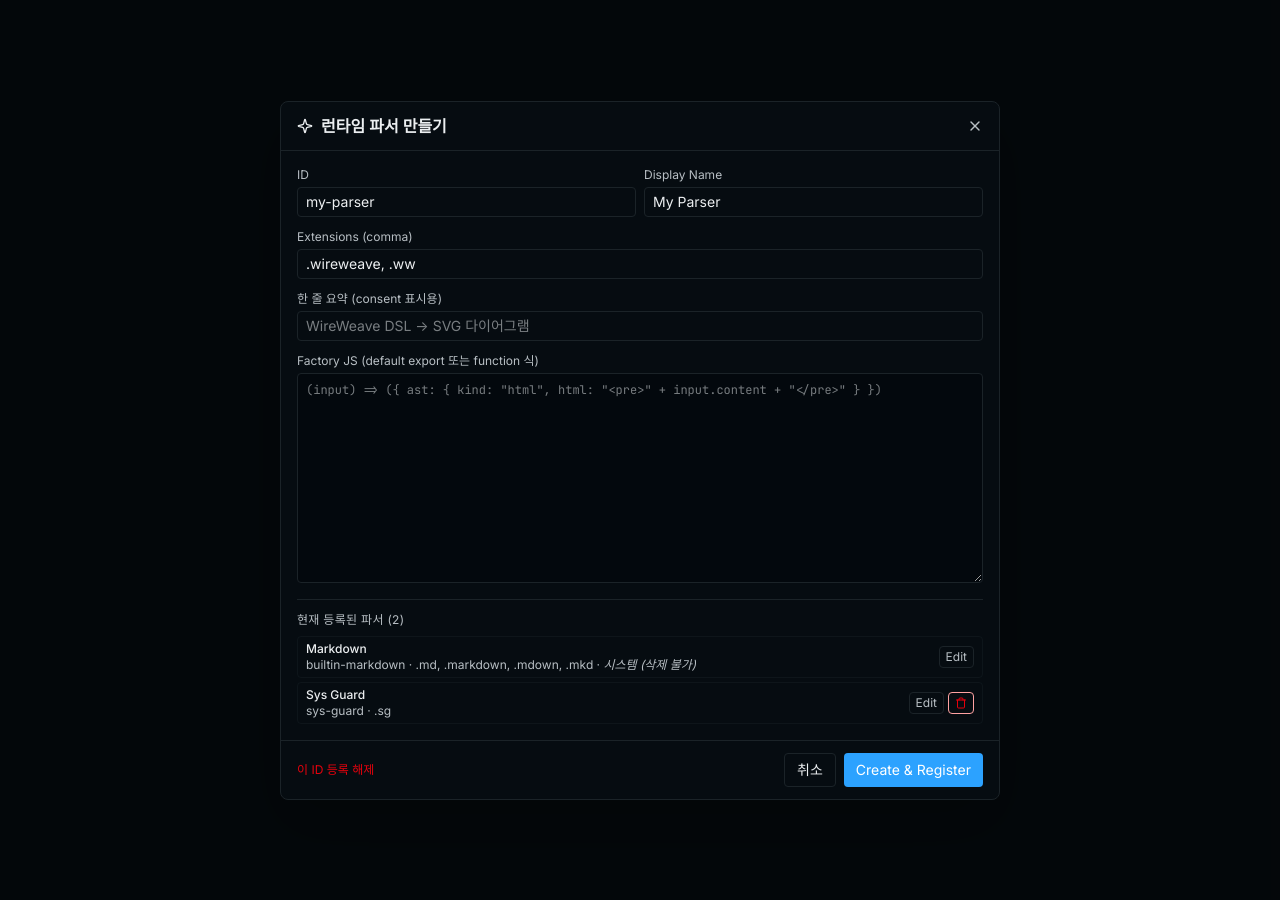
Test: CreateParserDialog › handleRemoveById refuses to remove a system parser (error shown)
What coordinates should you click on to do the following:
click the button with test id "parser-registry-remove-sys-guard"
I would click on:
 (961, 702)
Its box is [948,692,974,714].
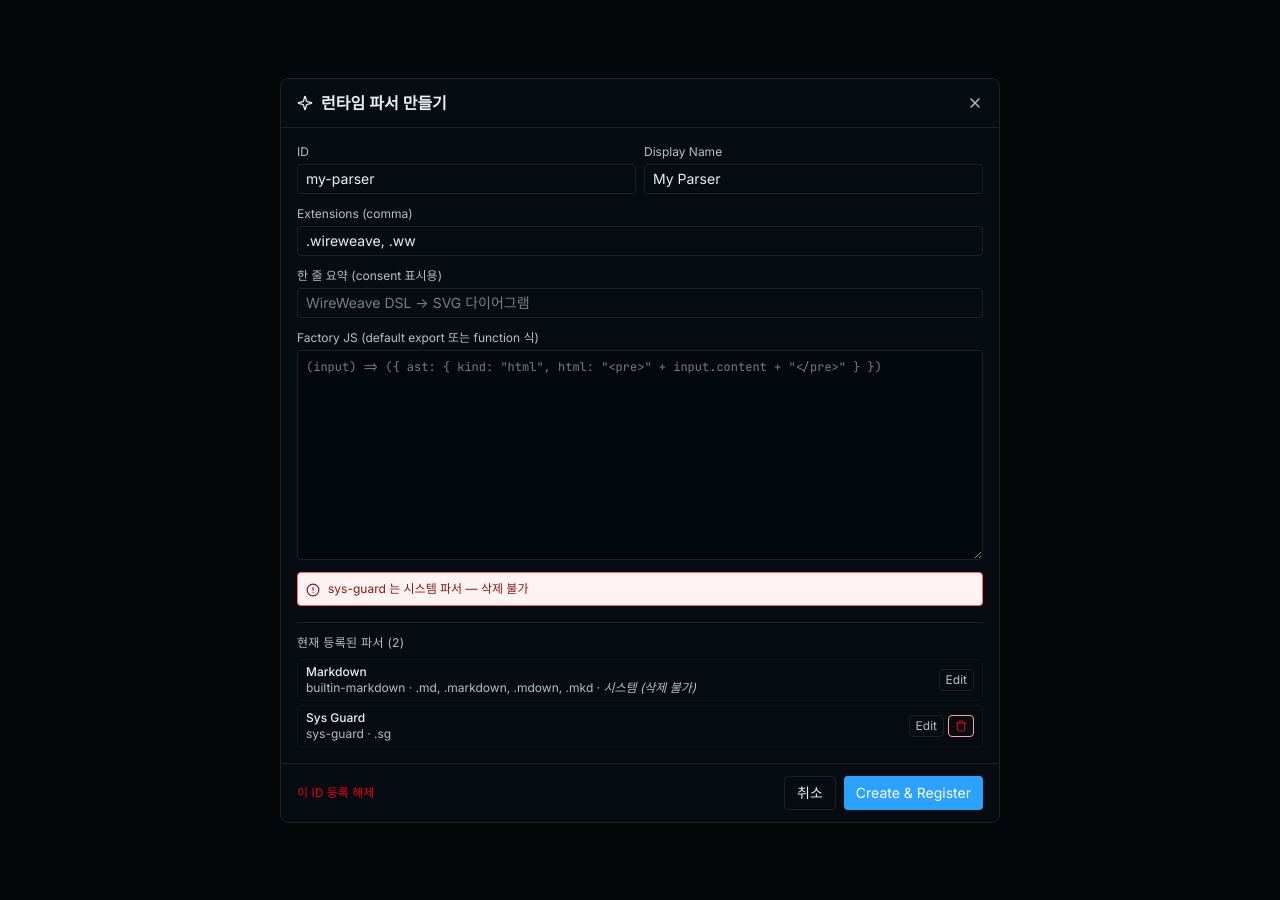
expect the element with test id "parser-result-error" shows "시스템 파서": met, box [328,580,528,596]
